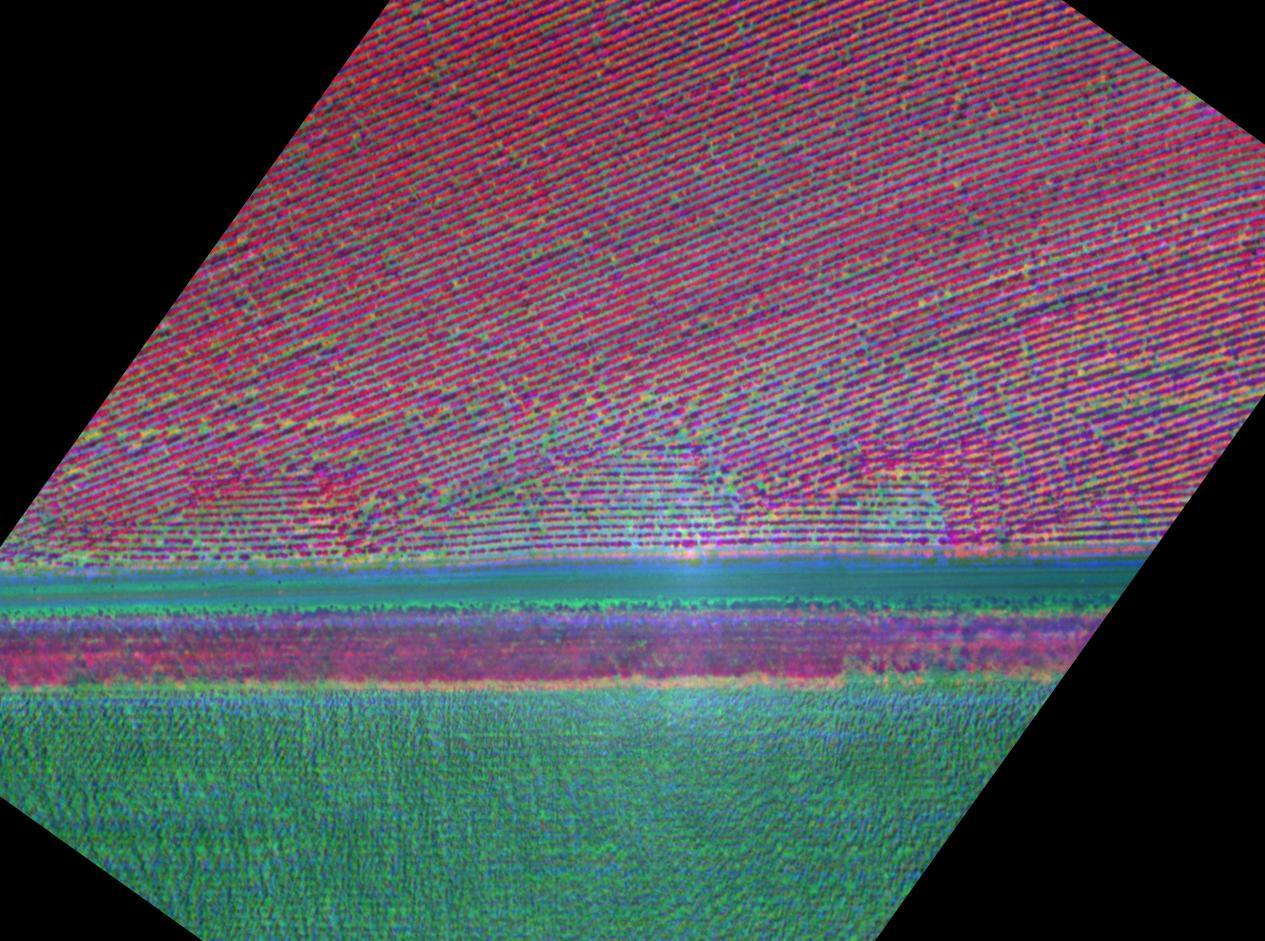dc: (644, 395, 649, 400), (681, 434, 685, 439), (955, 178, 959, 182), (81, 553, 85, 557), (1192, 100, 1196, 103), (846, 274, 849, 278), (589, 399, 592, 403), (689, 402, 692, 405)
